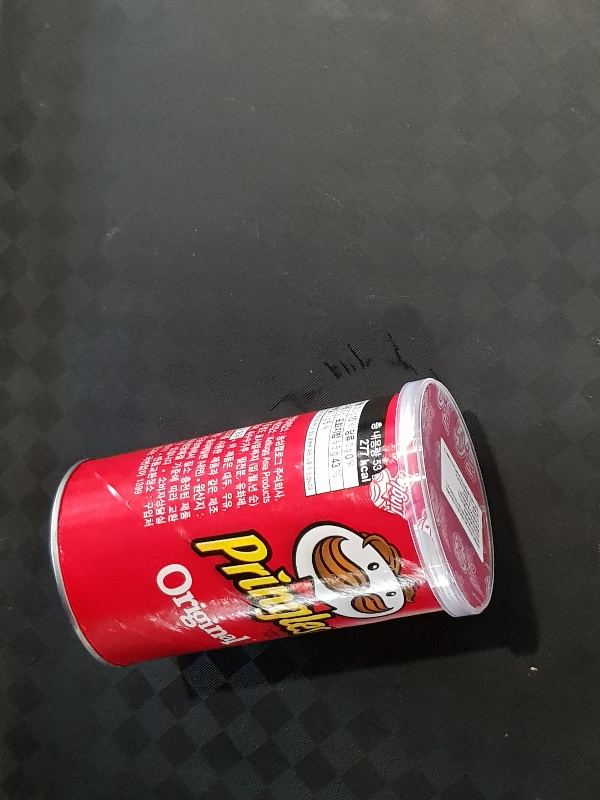Pringles Original: (48, 376, 498, 667)
